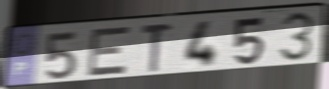3: (277, 10, 316, 64)
4: (182, 19, 222, 69)
5: (43, 29, 81, 81), (231, 15, 267, 66)
E: (85, 24, 133, 79)
T: (139, 22, 175, 74)
